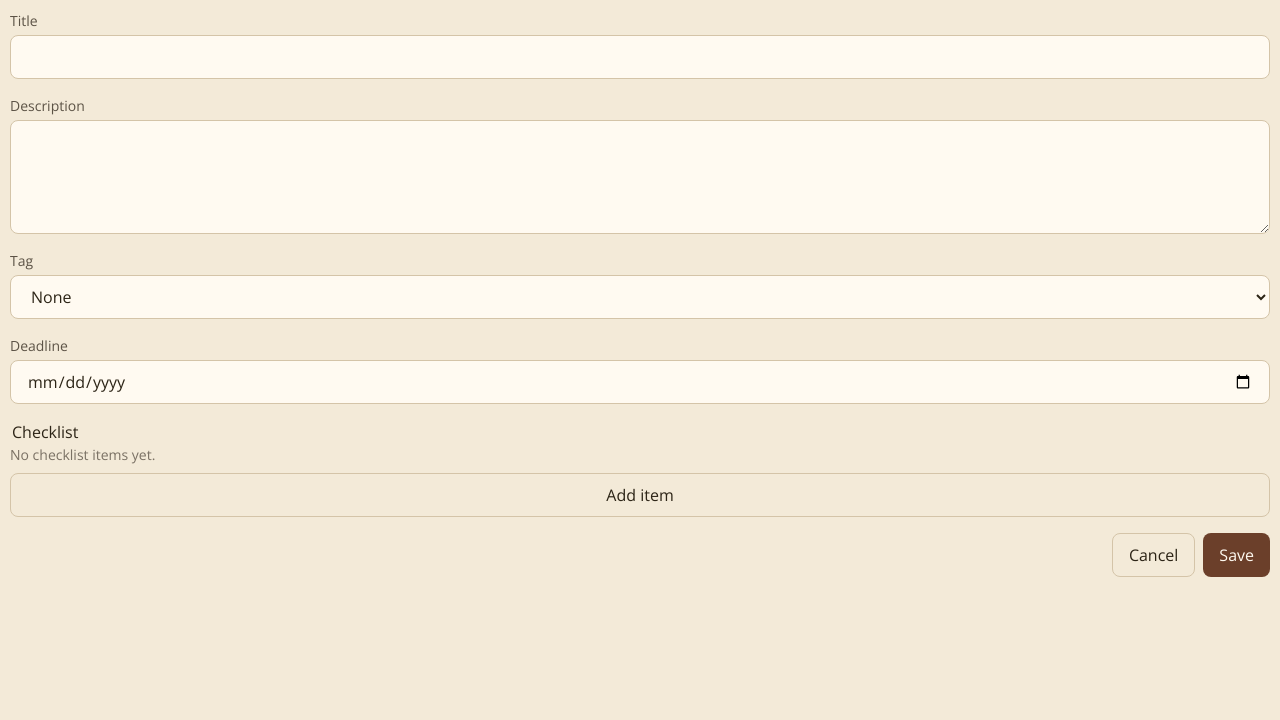
TaskFormDialog › does not submit create when title is empty
Type "Kanban catalog" into the text box labelled "Description". click: {"x": 640, "y": 177}
box: [10,120,1270,234]
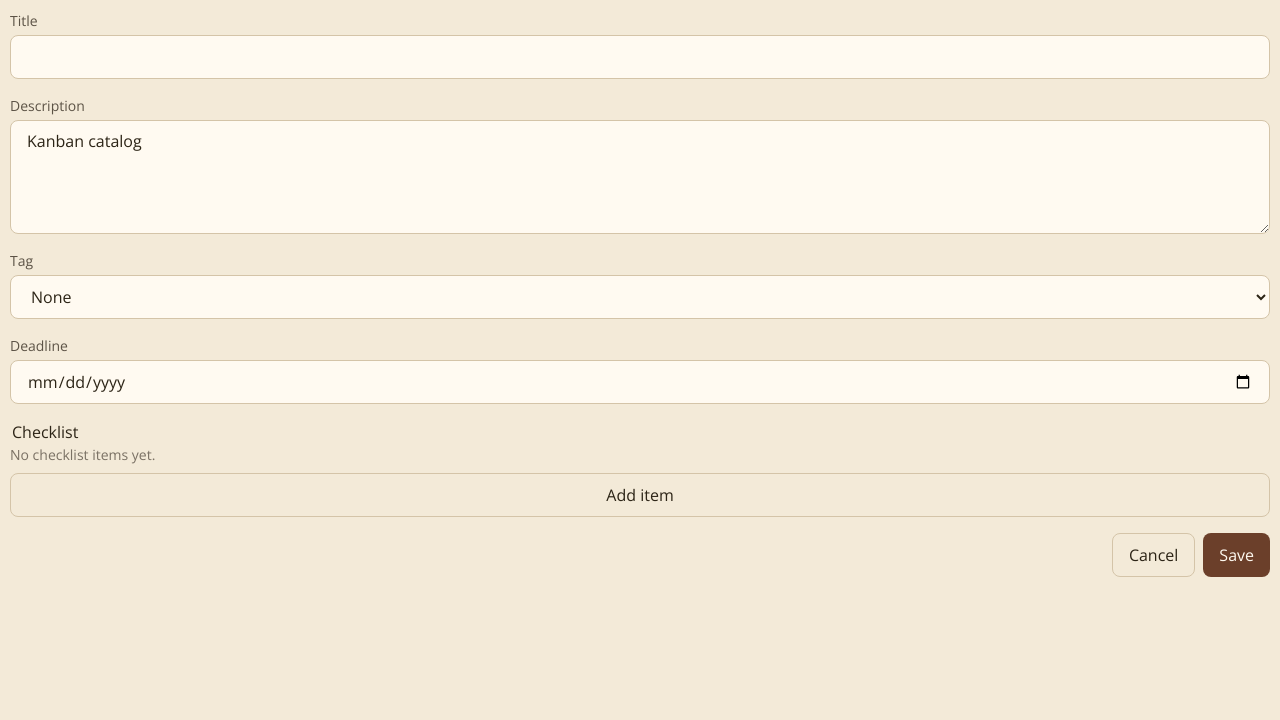
Click the button "Save". click: {"x": 1237, "y": 555}
box: [1203,533,1270,577]
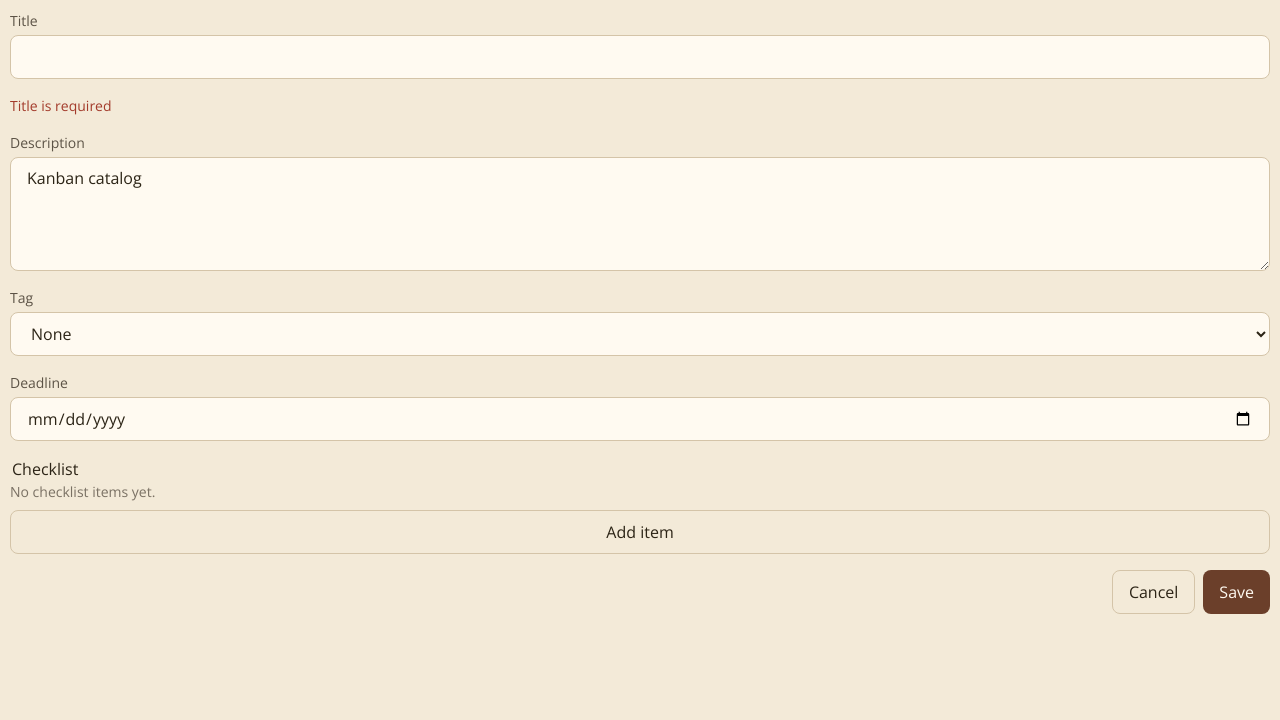
Result: the message reads "Title is required" at [10,96,112,115]
